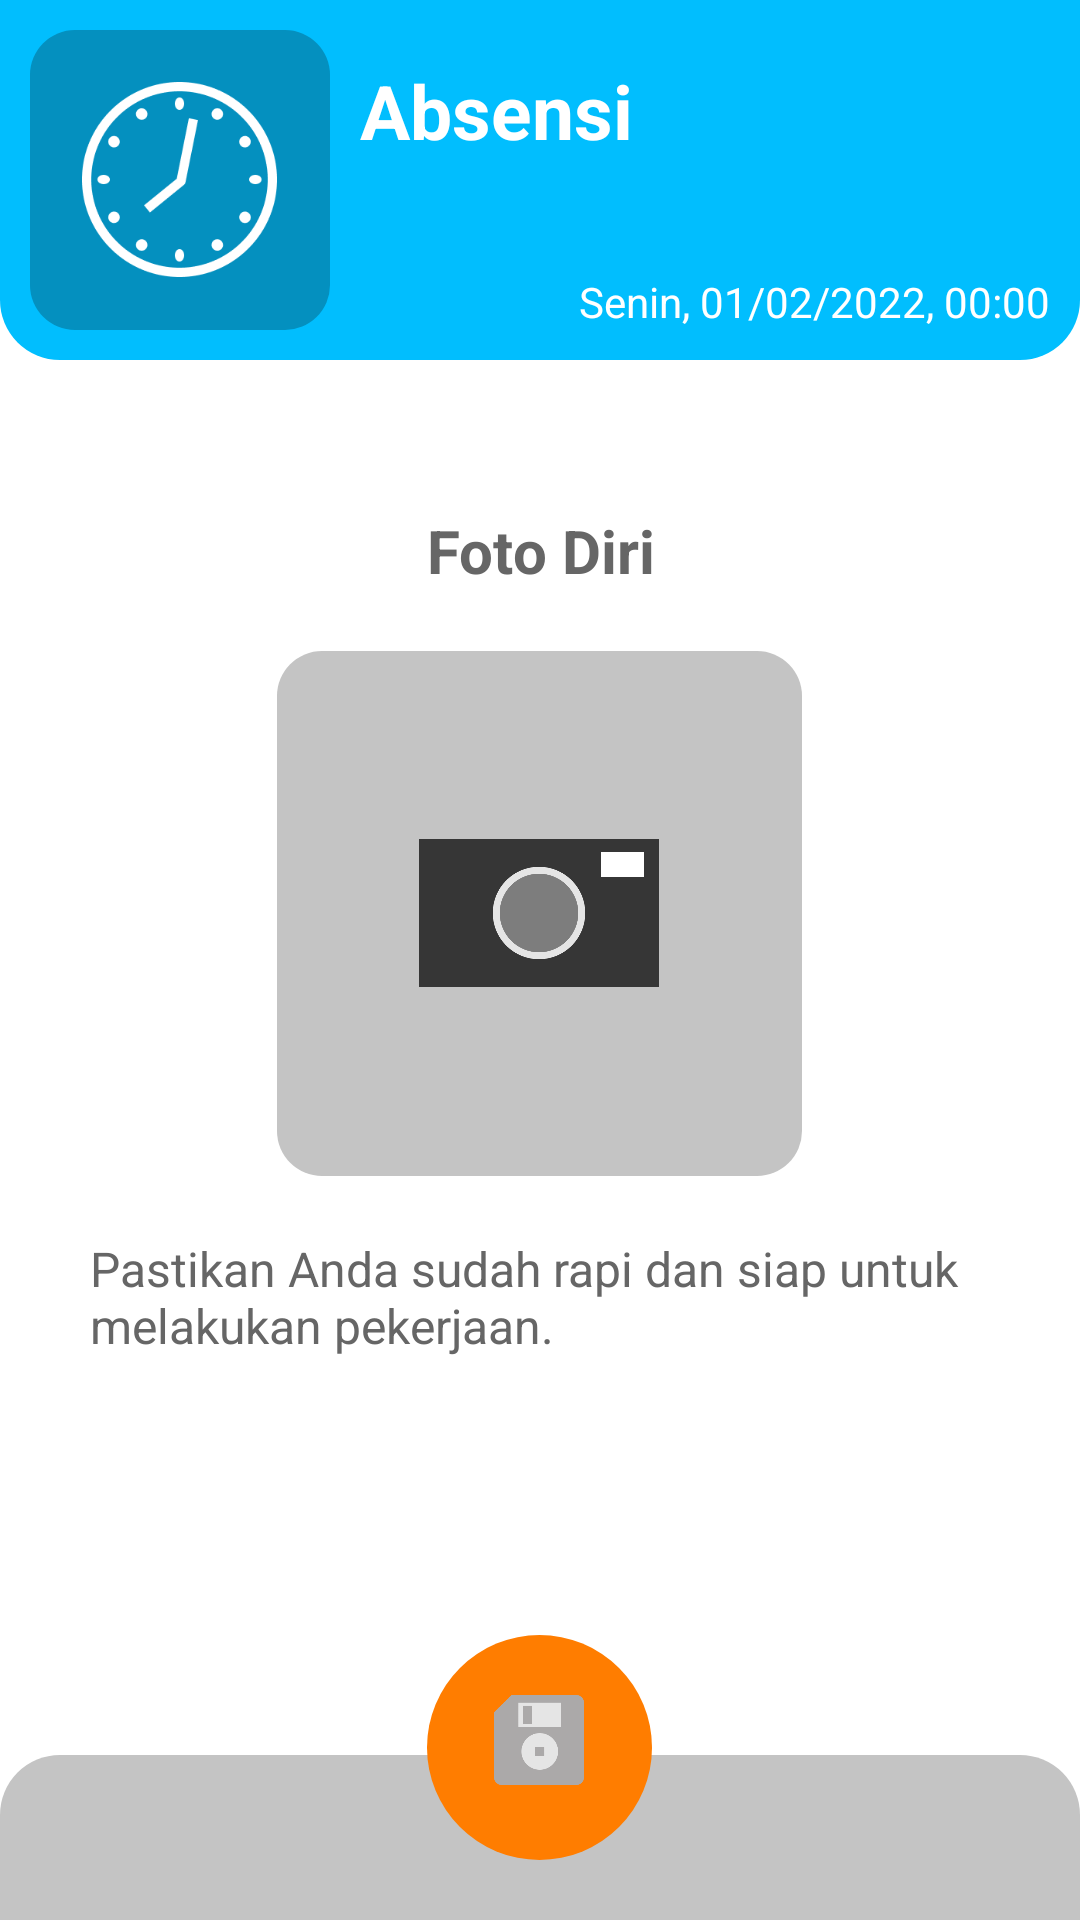

Locate icon controls on the screen. Image size 1080px x 1920px, boxes as (x1, y1, x2, y2).
camera: (419, 839, 659, 987)
save: (494, 1695, 584, 1785)
